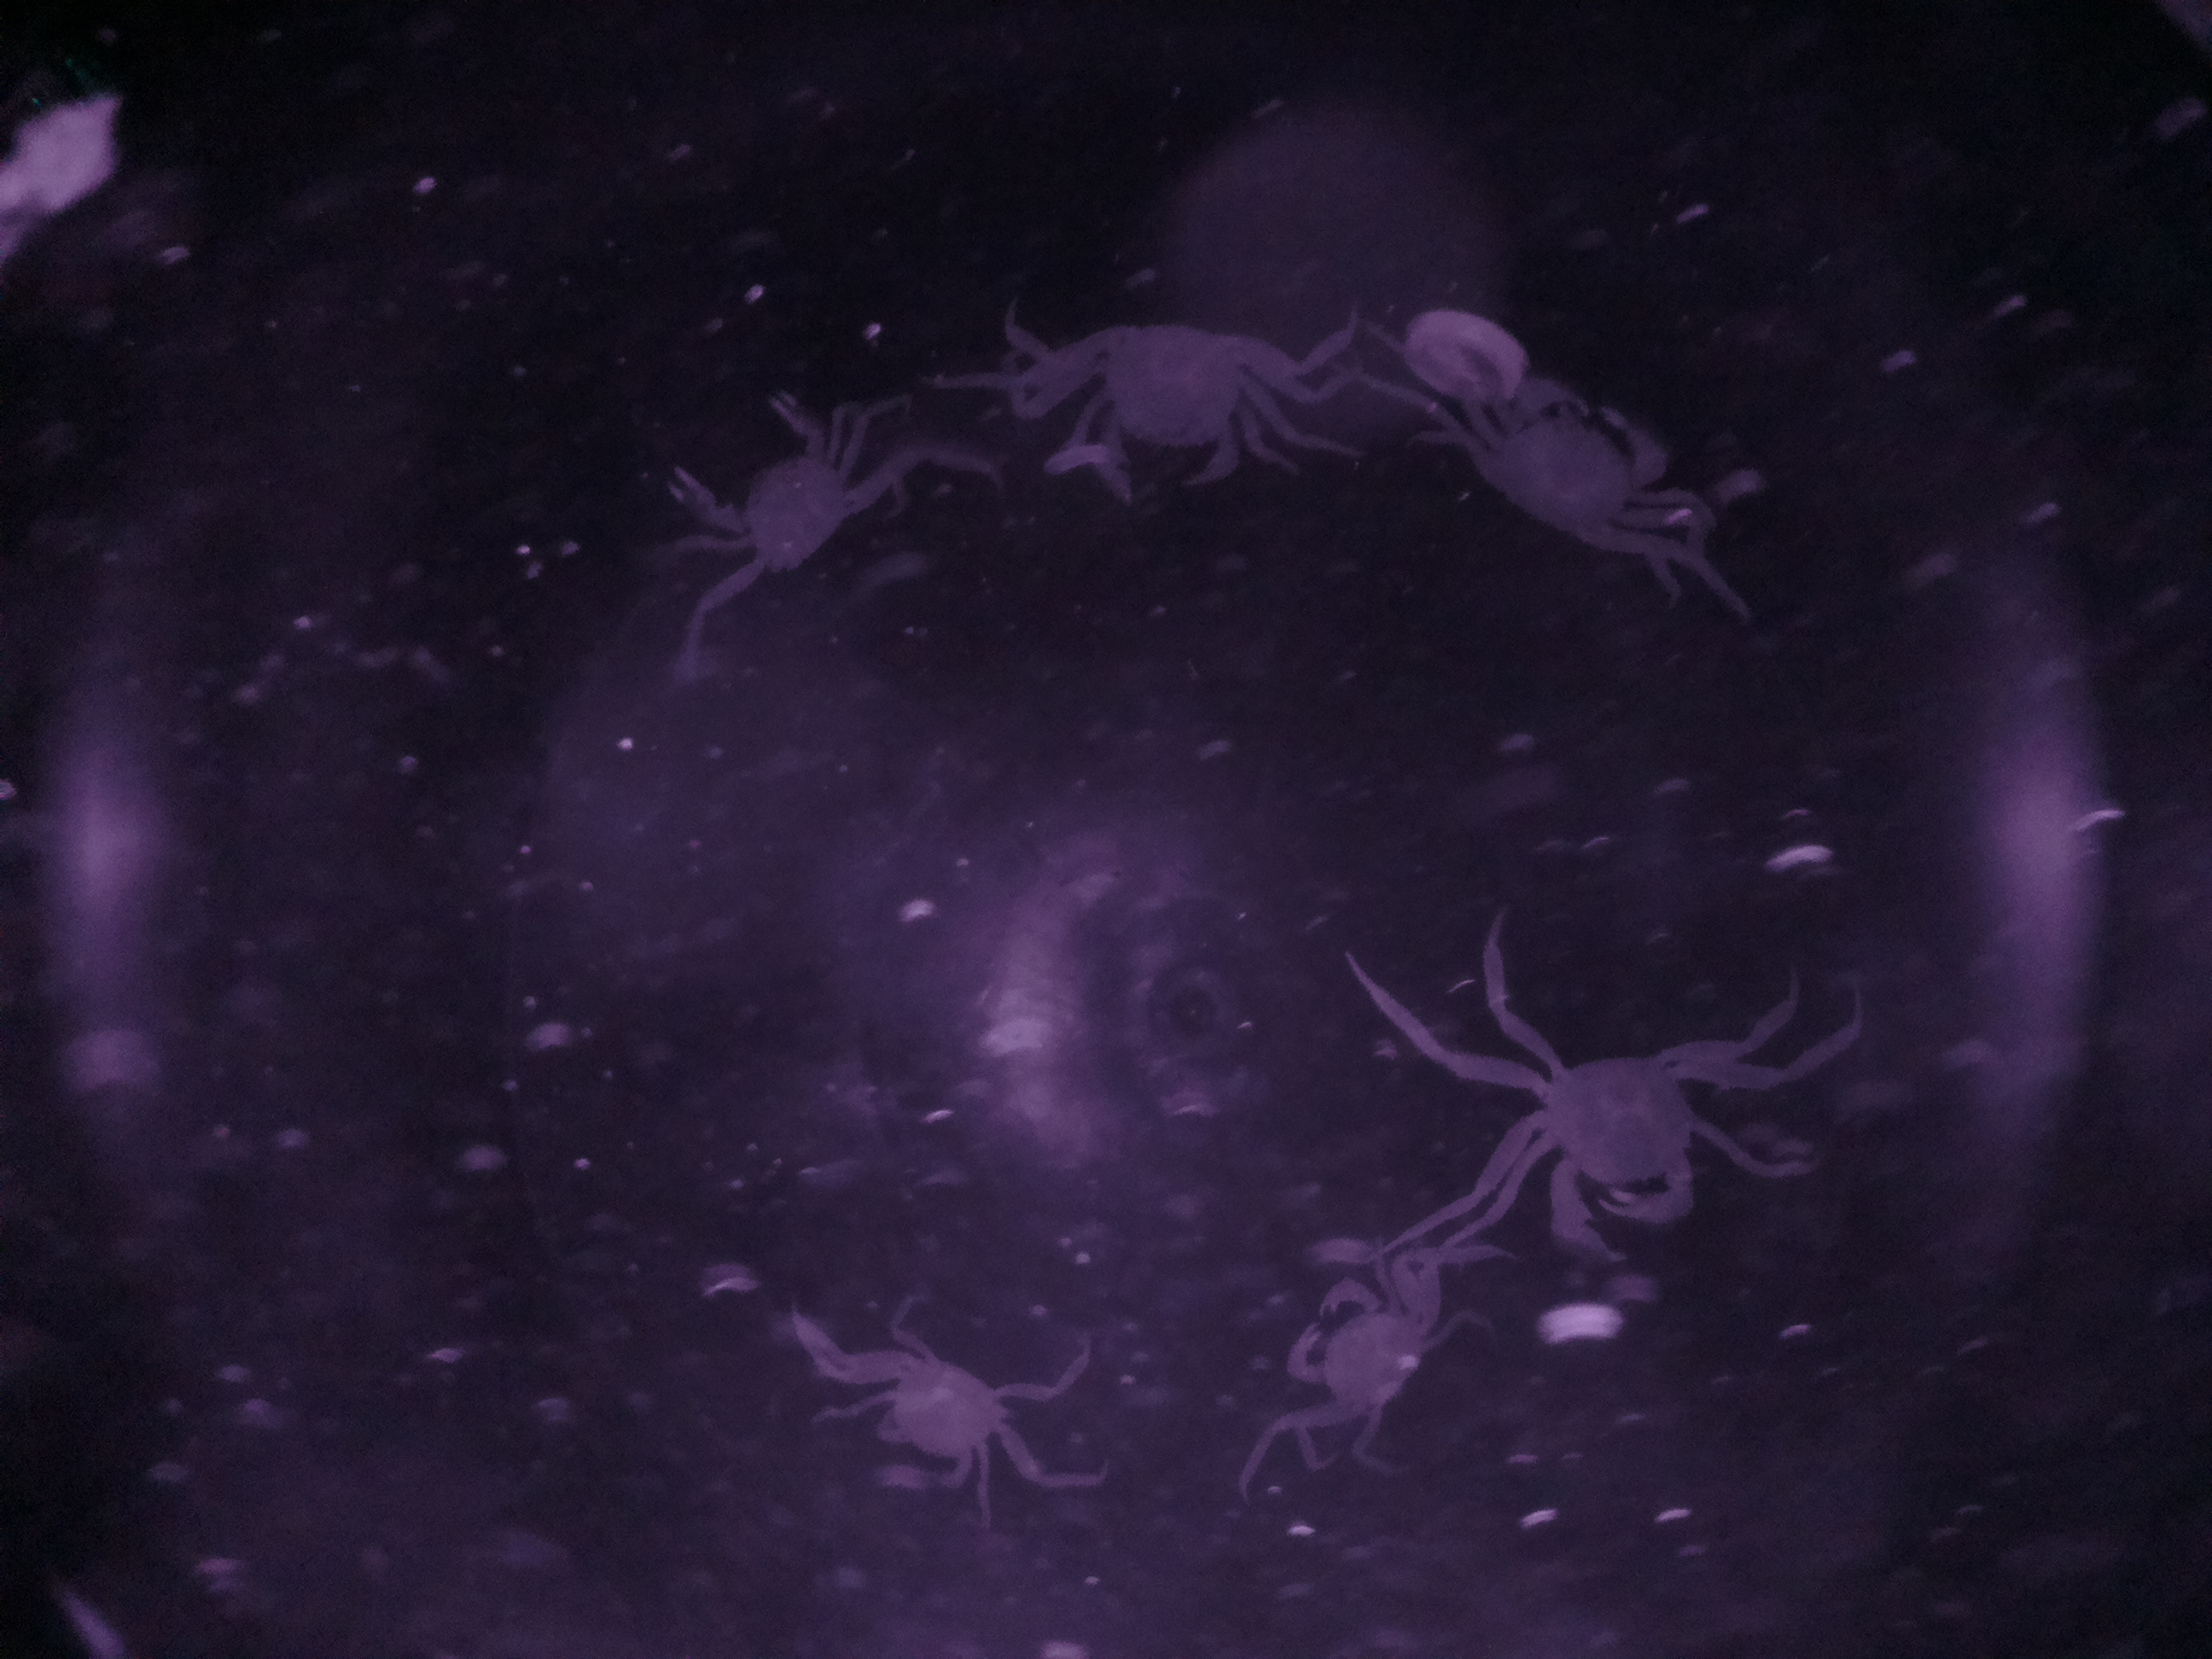Crab: (1489, 997, 1770, 1274), (1029, 303, 1318, 518), (655, 375, 902, 620), (1428, 359, 1676, 586), (1258, 1256, 1467, 1462)
